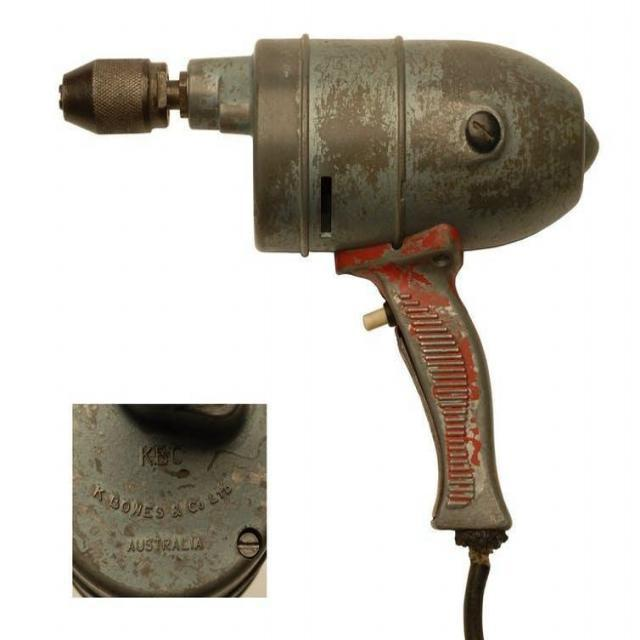drill: (58, 33, 601, 555), (72, 403, 270, 600)
